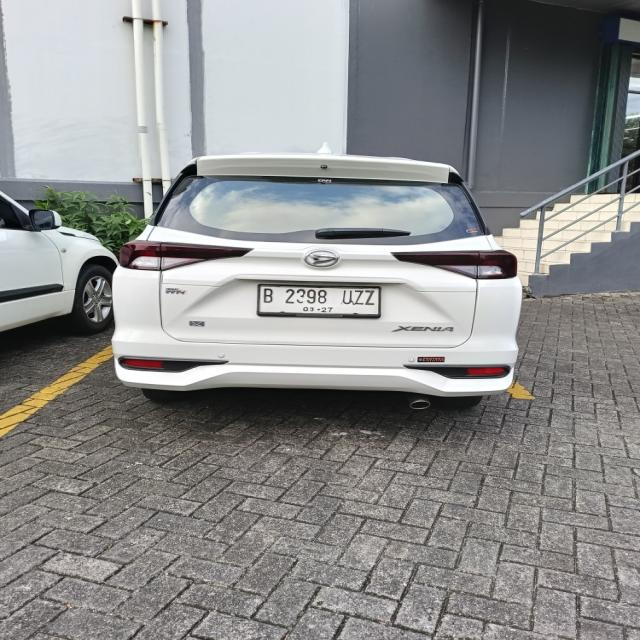plates: (254, 278, 375, 325)
